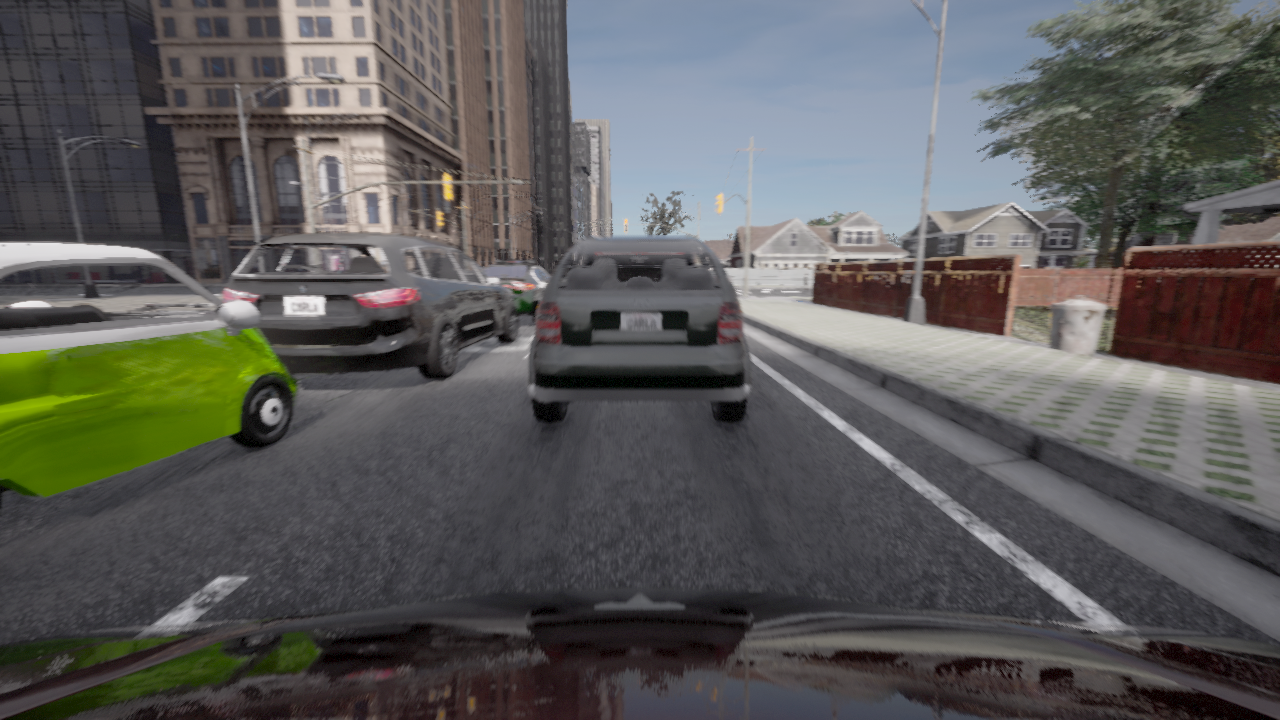cyclist: (0, 588, 1279, 719), (223, 233, 518, 379), (528, 236, 751, 423), (484, 261, 550, 322)
